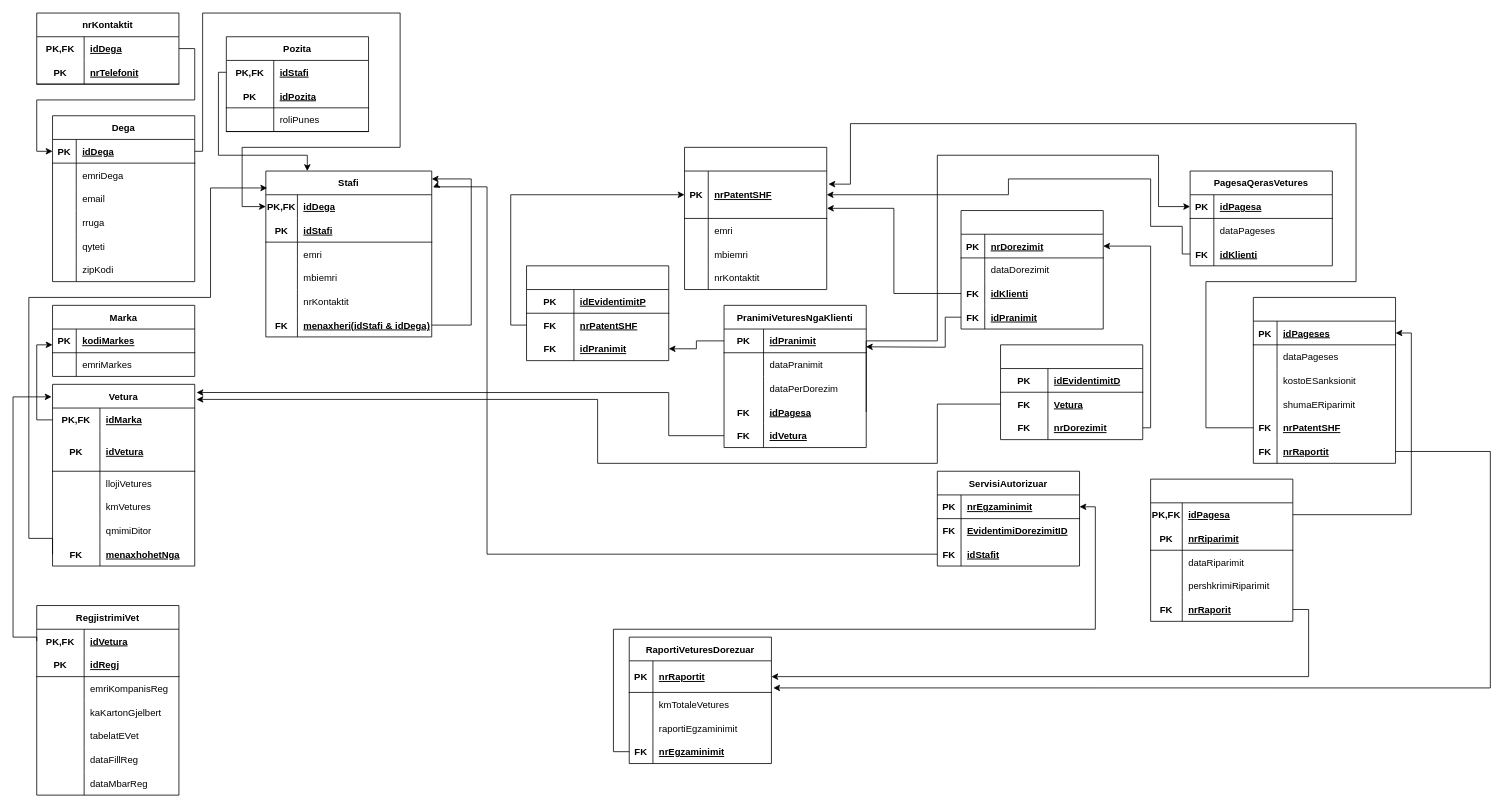
Image size: 1503x808. Some labels were removed from this diagram. The box of each missing label's shape, as (x1, y1, x2, y2) in pixels:
DorezimiVeturesNgaKlienti: (960, 210, 1103, 329)
EvidentimiDorezimit: (1000, 344, 1143, 440)
EvidentimiPranimit: (526, 265, 669, 361)
Klienti: (684, 147, 827, 290)
PagesaDemitVetures: (1253, 297, 1396, 463)
RiparimiVetures: (1150, 478, 1293, 621)
